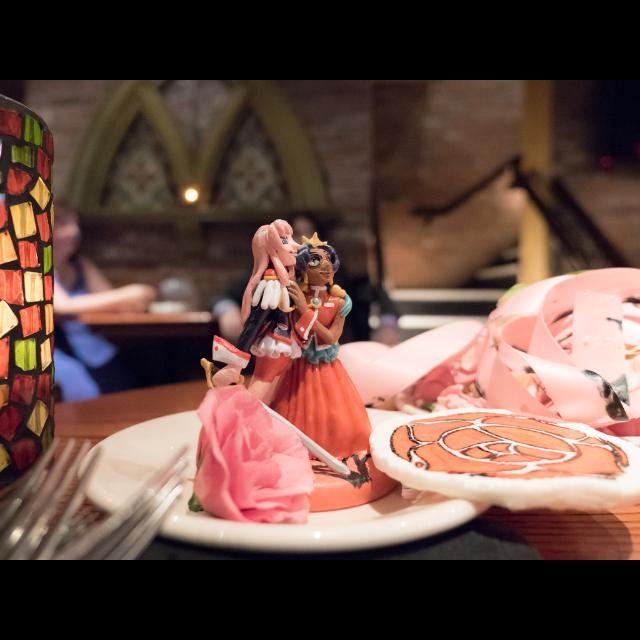Flower: (191, 382, 313, 524)
